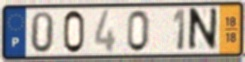0: (125, 8, 152, 54), (29, 10, 56, 54), (62, 9, 87, 55)
1: (171, 7, 186, 54)
4: (93, 8, 120, 55)
N: (186, 6, 220, 55)
